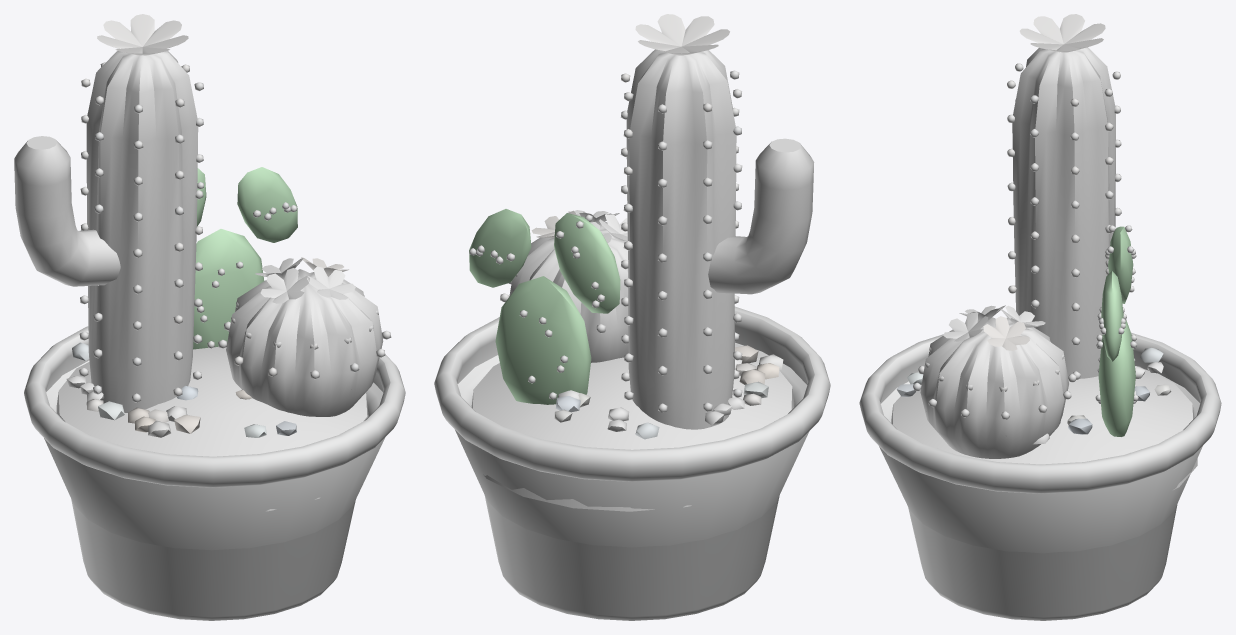
Rendered from plant_cactus.glb.
3 views of the same model, side by side, from view 1: azimuth 30°, elevation 25°; view 2: azimuth 150°, elevation 25°; view 3: azimuth 270°, elevation 25° (orthographic). The views are drawn at different scales.
Parts seen in each view (by area): view 1: cactus, pot, soil, bloom, spines, gravel; view 2: cactus, pot, soil, spines, gravel, bloom; view 3: pot, cactus, soil, bloom, spines, gravel.
Boxes of the visible parts, x1,y1,x2,y2 form: cactus: [14, 51, 383, 416]; pot: [24, 326, 405, 620]; soil: [56, 346, 368, 511]; bloom: [97, 14, 355, 303]; spines: [79, 62, 391, 402]; gravel: [66, 342, 296, 437]; cactus: [469, 49, 814, 429]; pot: [434, 306, 830, 620]; soil: [471, 343, 794, 511]; spines: [469, 70, 742, 412]; gravel: [554, 345, 783, 439]; bloom: [531, 14, 729, 243]; pot: [859, 332, 1221, 620]; cactus: [920, 47, 1135, 458]; soil: [891, 368, 1197, 489]; bloom: [943, 14, 1105, 350]; spines: [913, 63, 1138, 436]; gravel: [896, 348, 1171, 444].
Bounding box in the file's own units: 0.1725 × 0.2558 × 0.1633.
